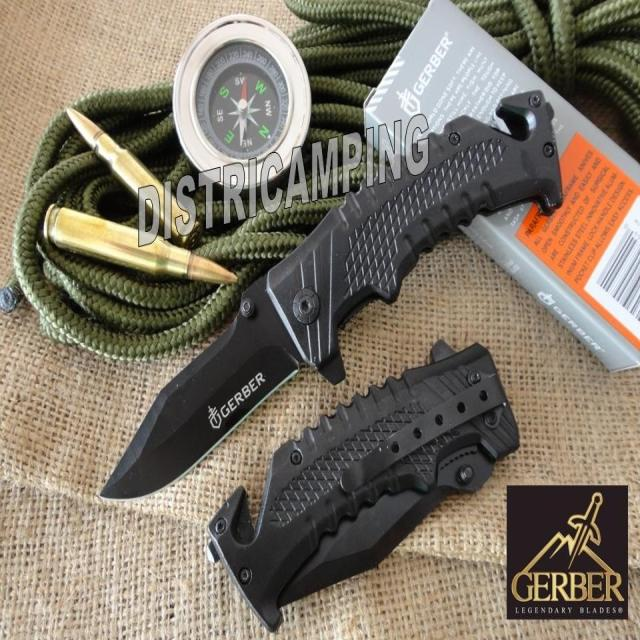knife: (100, 83, 562, 515)
